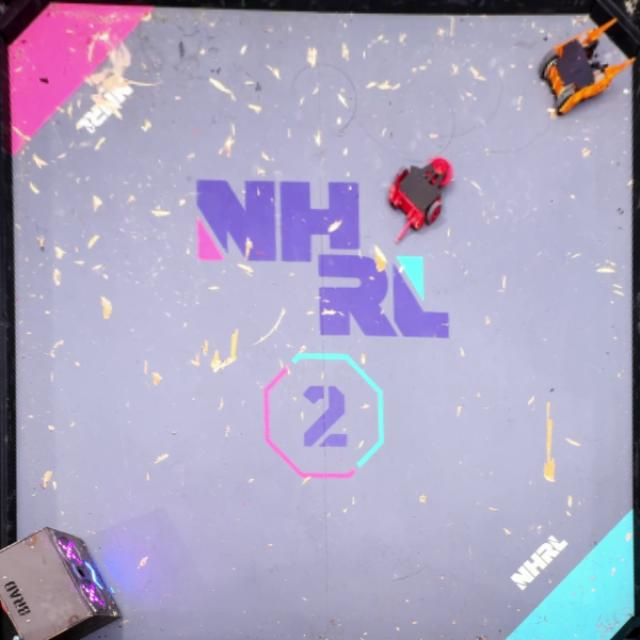housebot: (0, 526, 125, 640)
robot: (536, 17, 634, 115), (387, 157, 453, 243)
